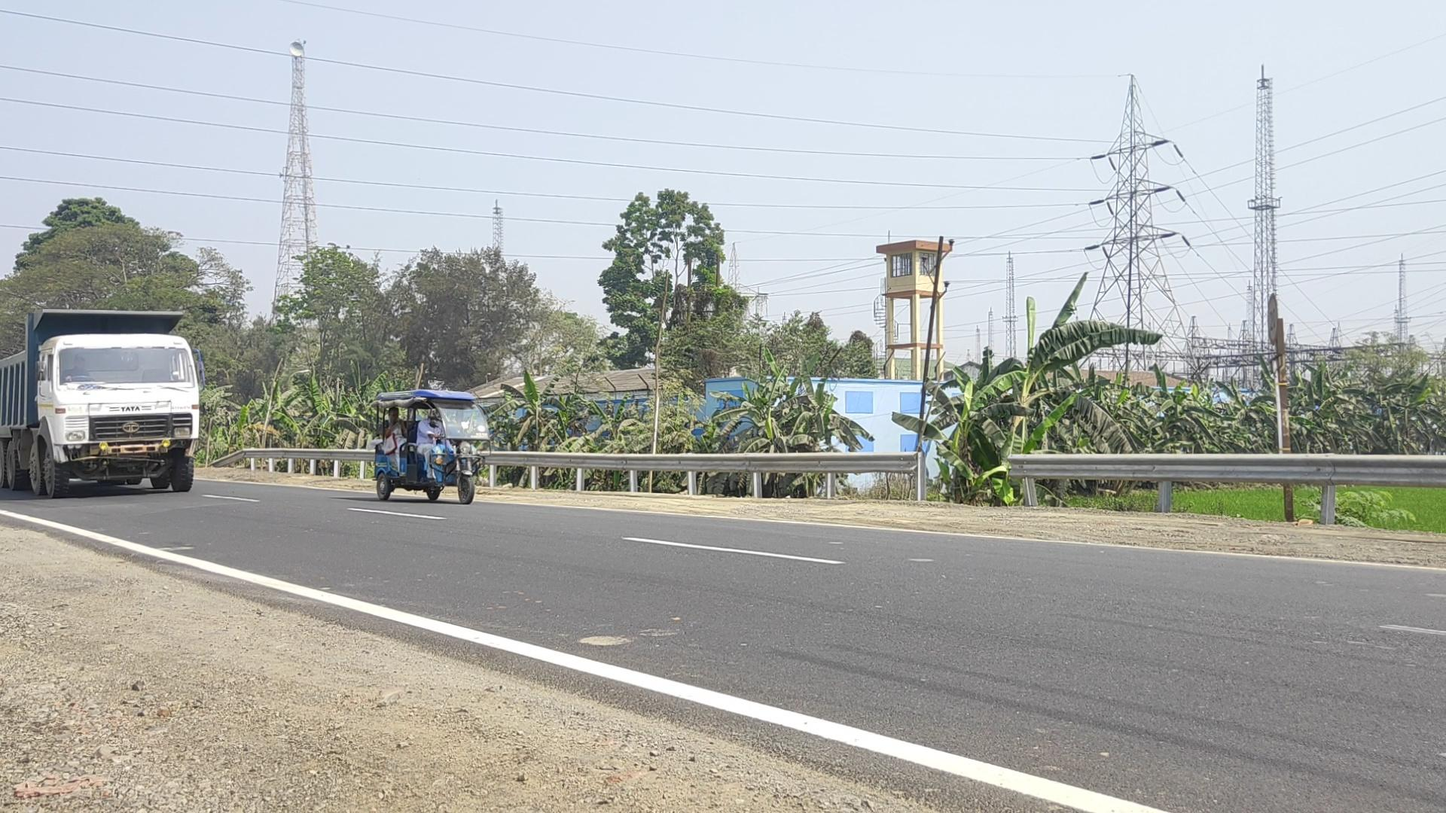Auto: (372, 388, 492, 505)
truck: (1, 306, 204, 499)
